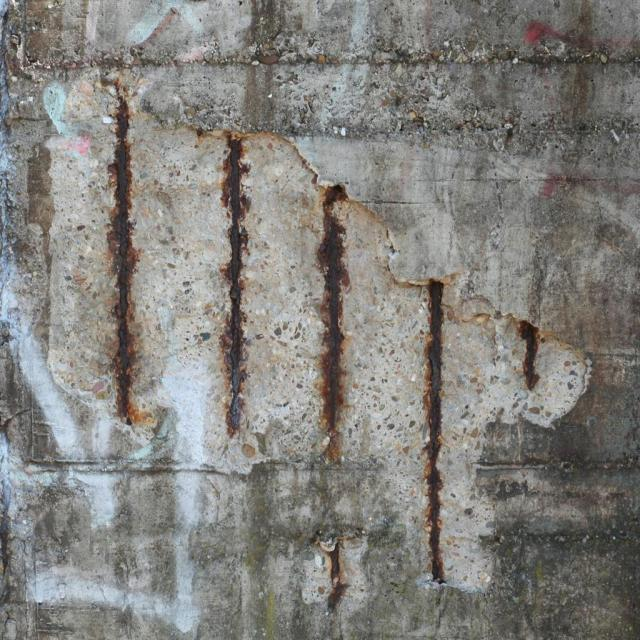Rebar: (41, 65, 588, 616)
